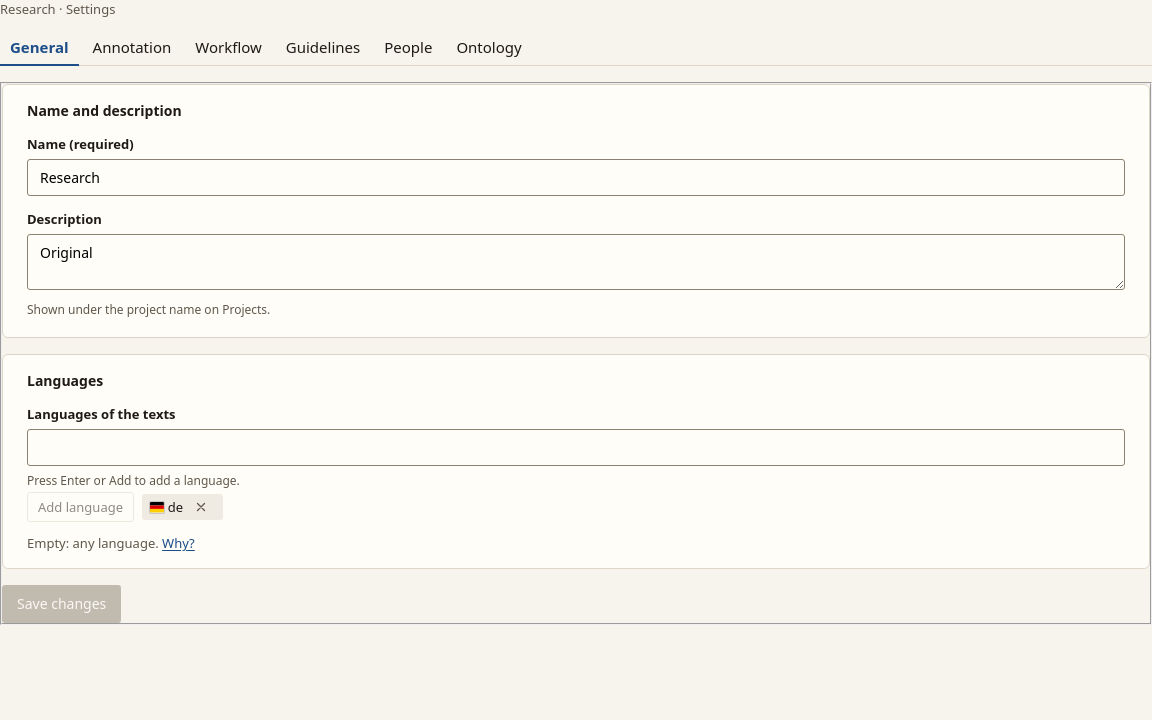
Test: settings section addresses › discards the section's edits when leaving with Discard changes
Replace the text in the field labelled "Name (required)" with "Edited": (576, 178) [27, 159, 1125, 196]
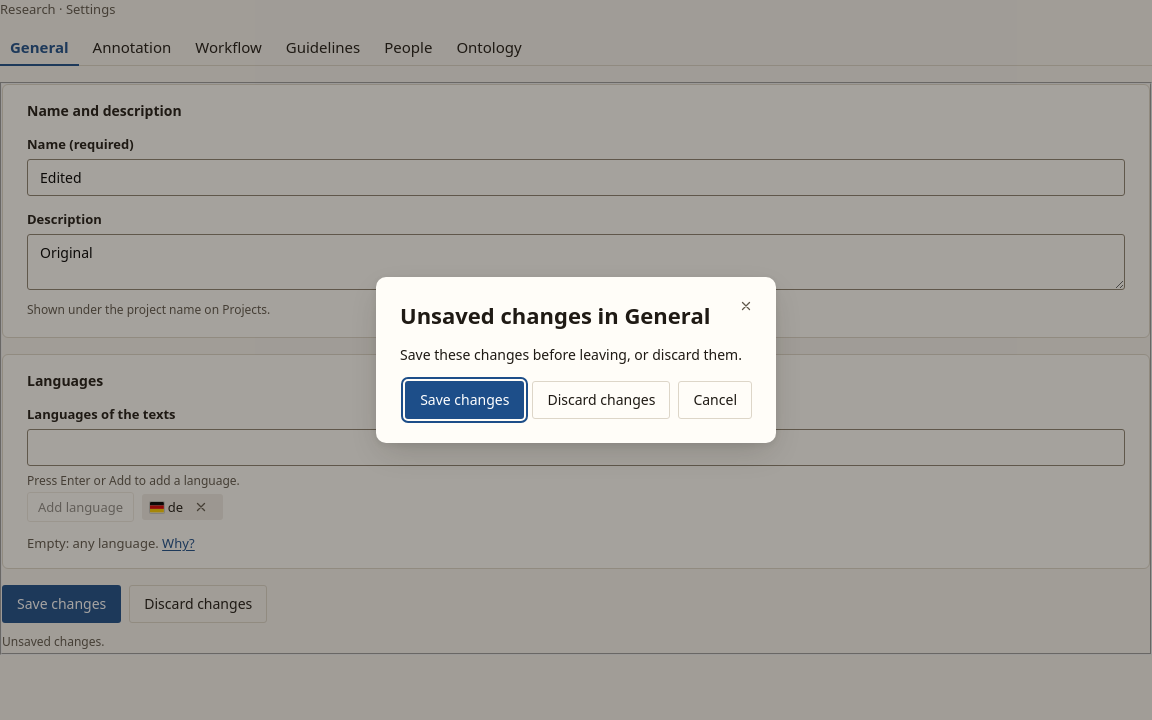
Click the button "Discard changes": (601, 400) [532, 381, 670, 419]
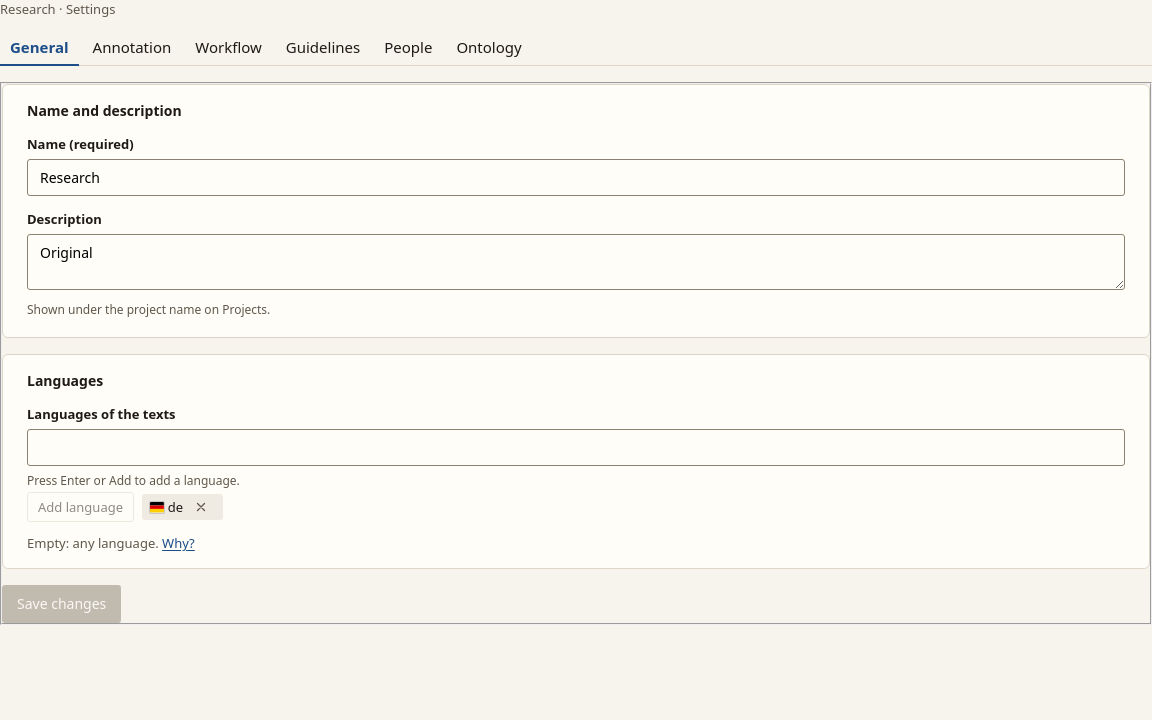
Expected: the field labelled "Name (required)" holds "Research", [27, 159, 1125, 196]
